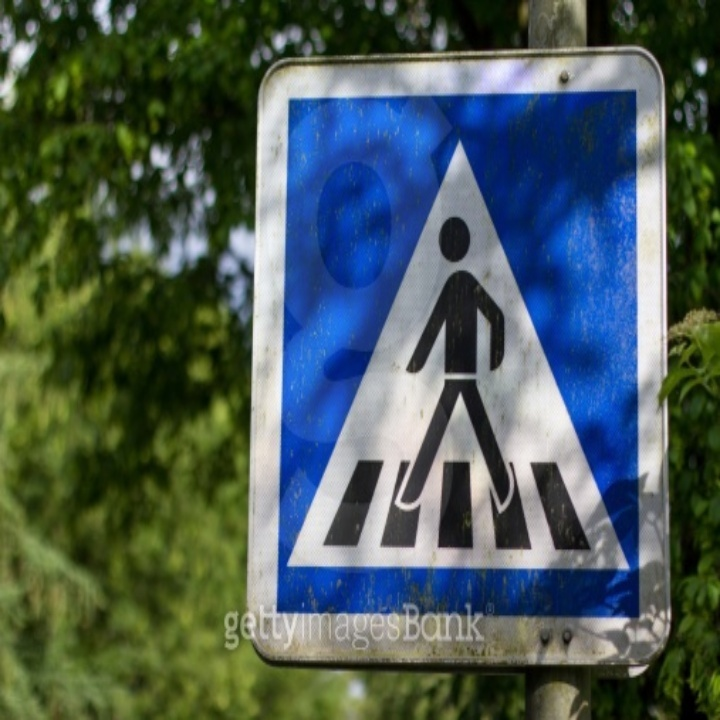cross: (382, 209, 546, 517)
